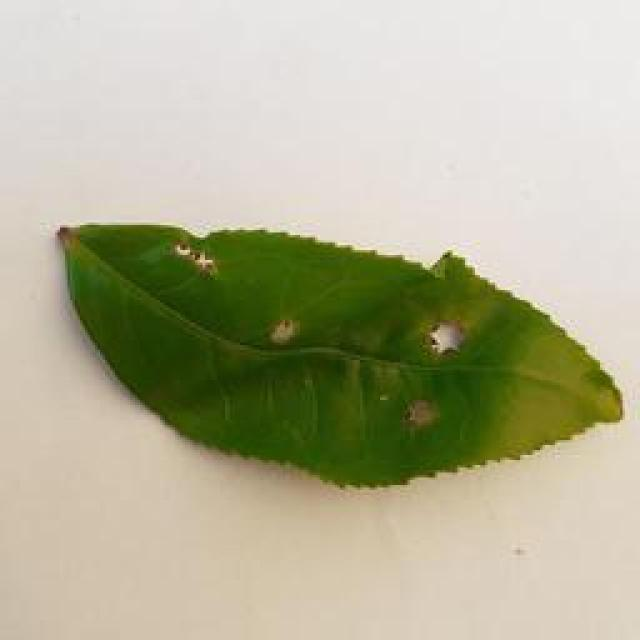Helopeltis: (39, 212, 632, 486)
